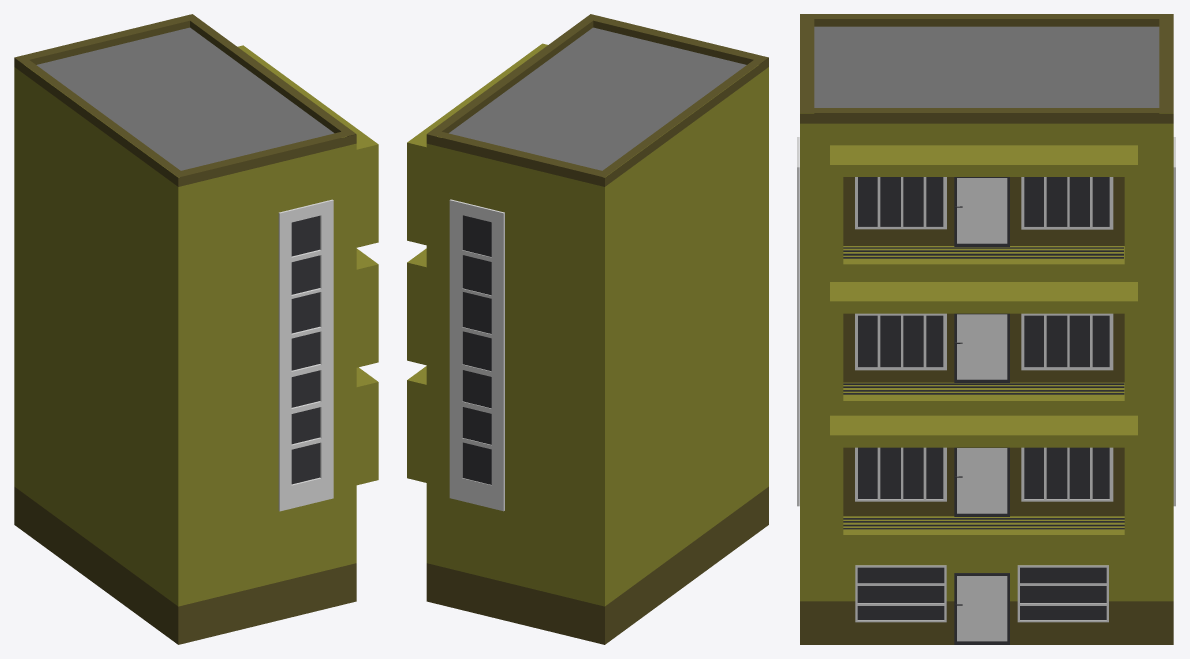
File: Building_PanelModern_Yellow.fbx
The picture shows the model from 3 angles, left to right: view 1: azimuth 30°, elevation 25°; view 2: azimuth 150°, elevation 25°; view 3: azimuth 270°, elevation 25°; orthographic projection. The views are drawn at different scales.
Parts seen in each view (by area): view 1: Plane.001, Plane; view 2: Plane.001, Plane; view 3: Plane.001, Plane, Plane.003, Plane.004.
Boxes of the visible parts, box(x1,y1,x2,y2) form: Plane.001: box(14, 14, 356, 644); Plane: box(237, 45, 378, 485); Plane.001: box(426, 14, 768, 644); Plane: box(407, 43, 547, 482); Plane.001: box(797, 14, 1175, 644); Plane: box(830, 145, 1137, 546); Plane.003: box(855, 177, 1113, 622); Plane.004: box(954, 177, 1009, 644).
Size of the model in its own units: 665 by 1393 by 899.
